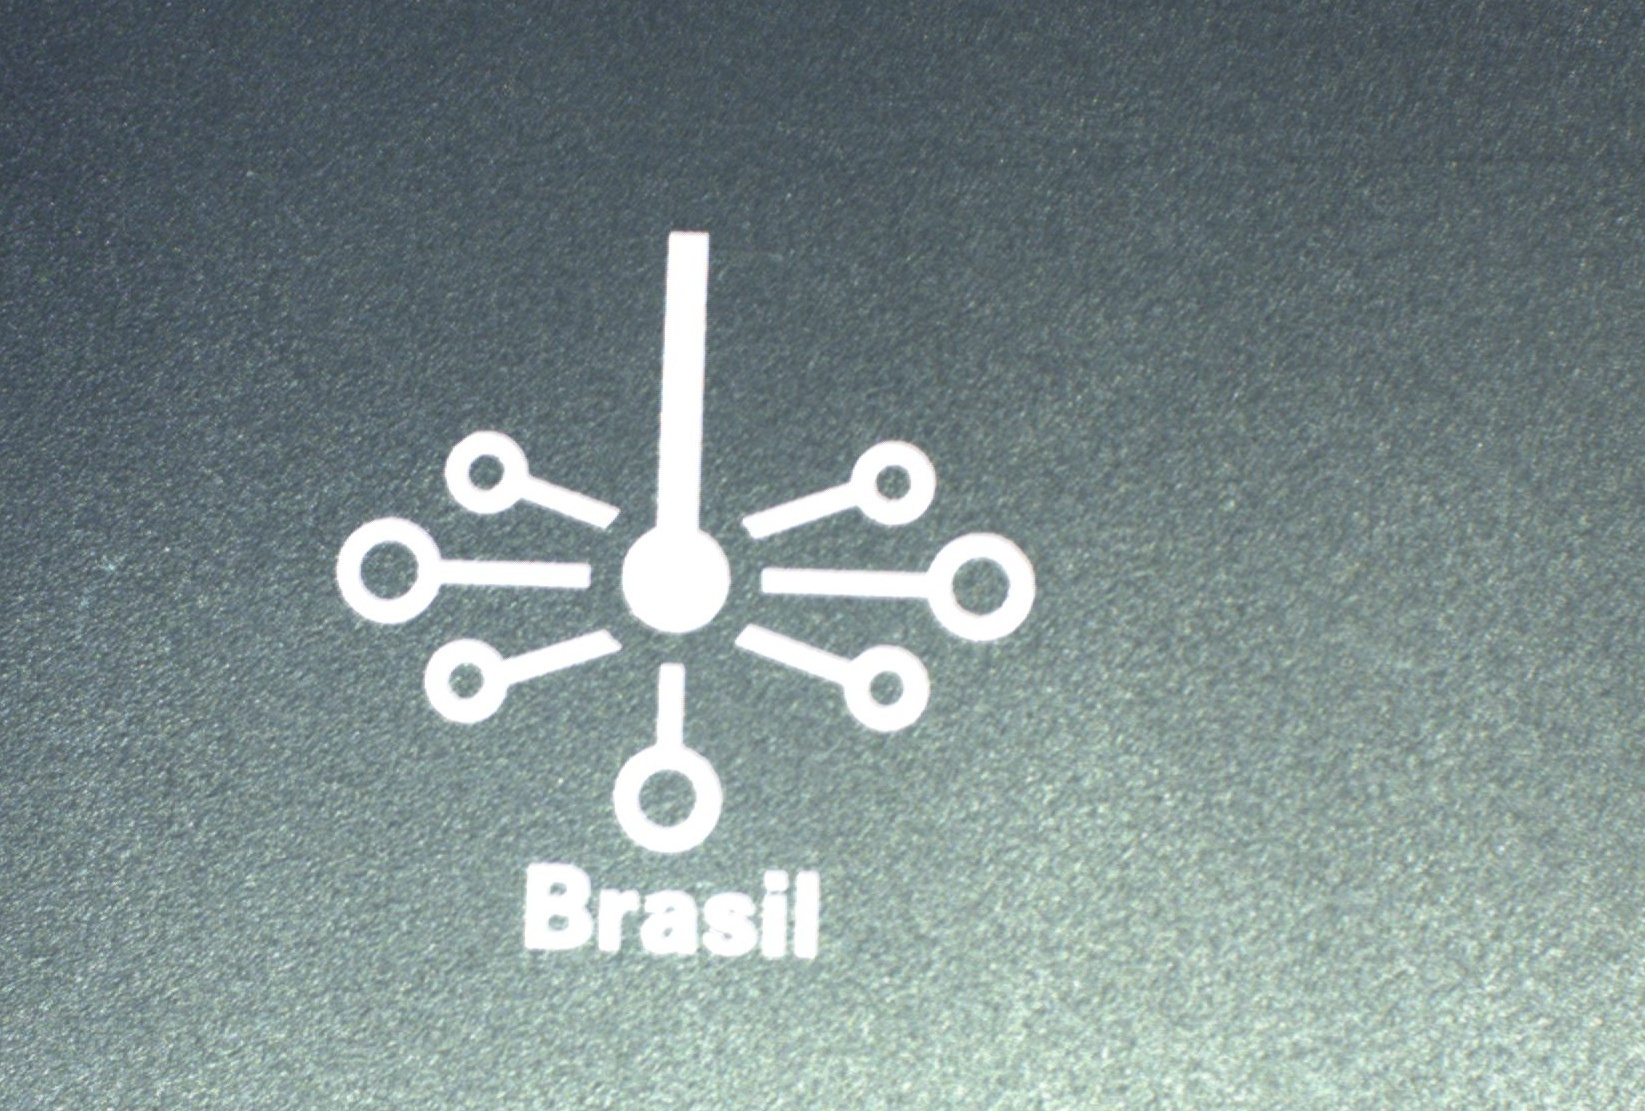BO_Brsail: (342, 222, 1050, 968)
